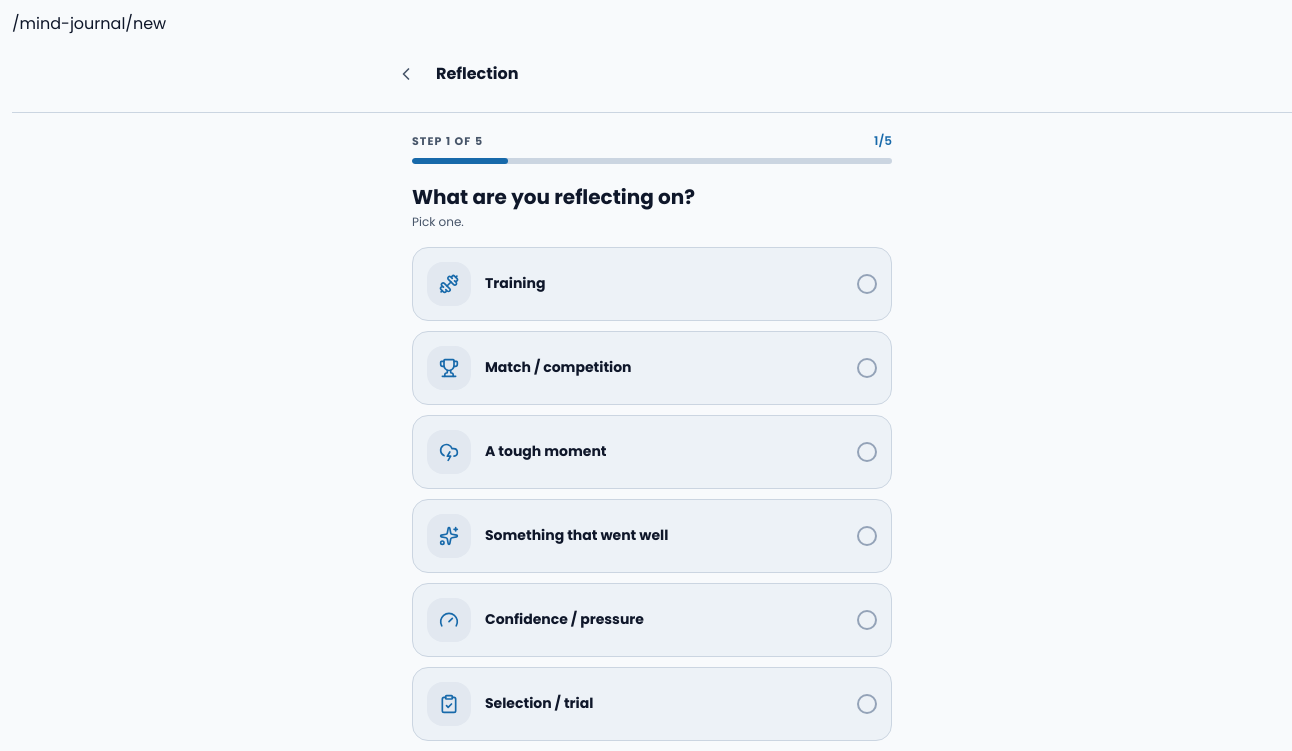
it: one question per screen › there is no Skip — every structured question must be answered
The image size is (1292, 751).
Click the radio button labelled "Training": (449, 284) [412, 247, 892, 321]
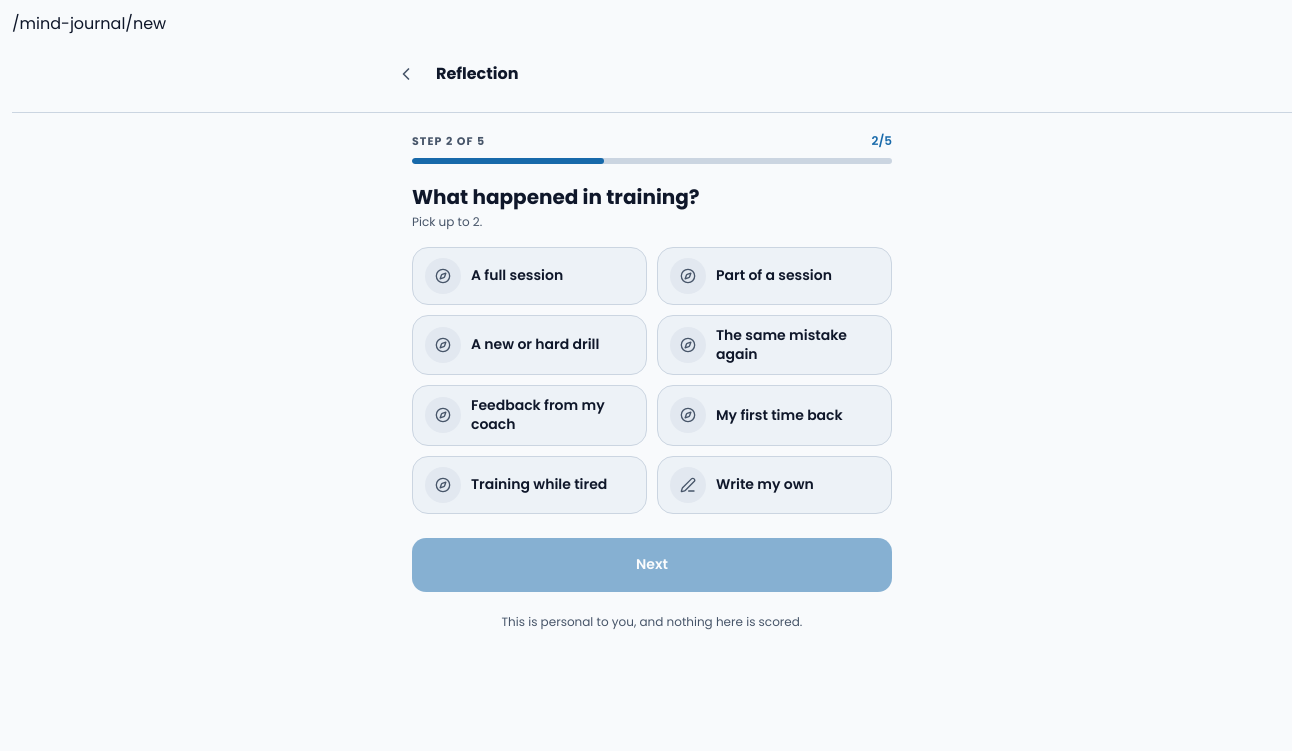
Expected: the button "Next" is disabled, [412, 538, 892, 592]
Expected: the heading "What happened in training?" is shown, [412, 183, 700, 211]
Click the button "A full session": (530, 276) [412, 247, 647, 305]
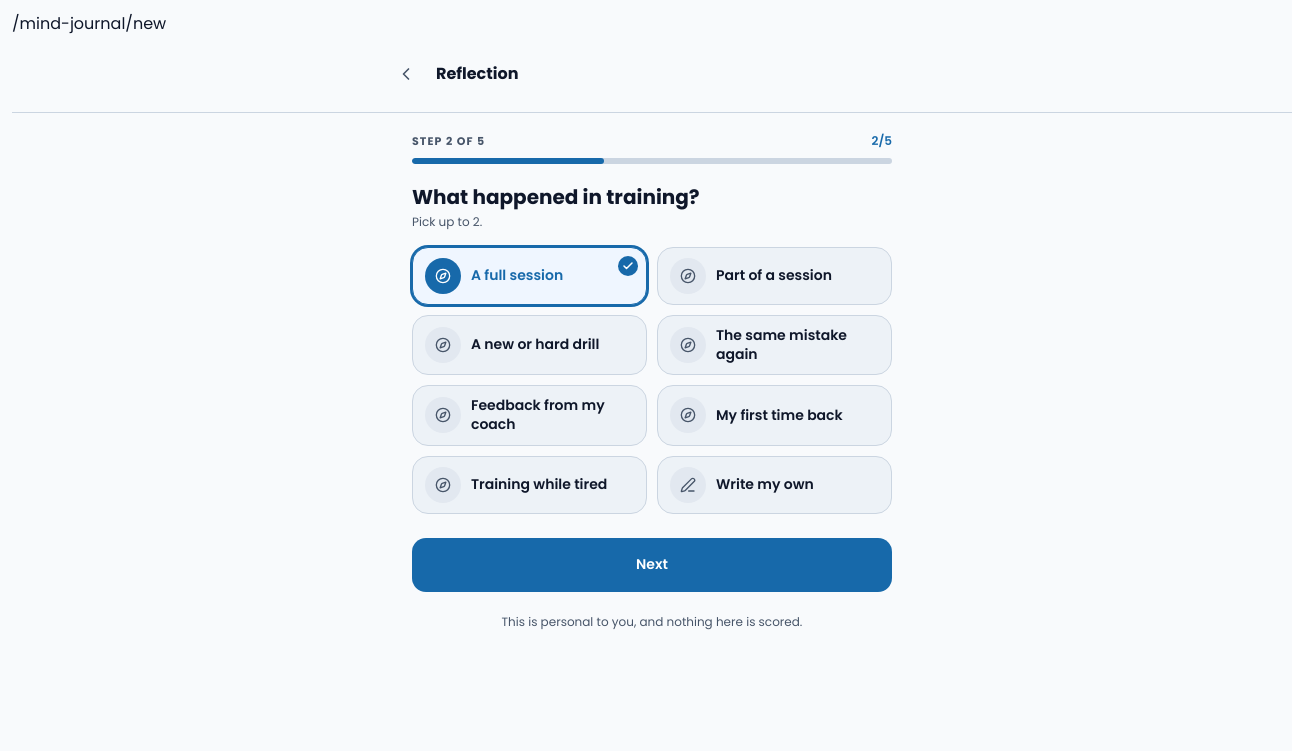
Expected: the button "Next" is enabled, [412, 538, 892, 592]
